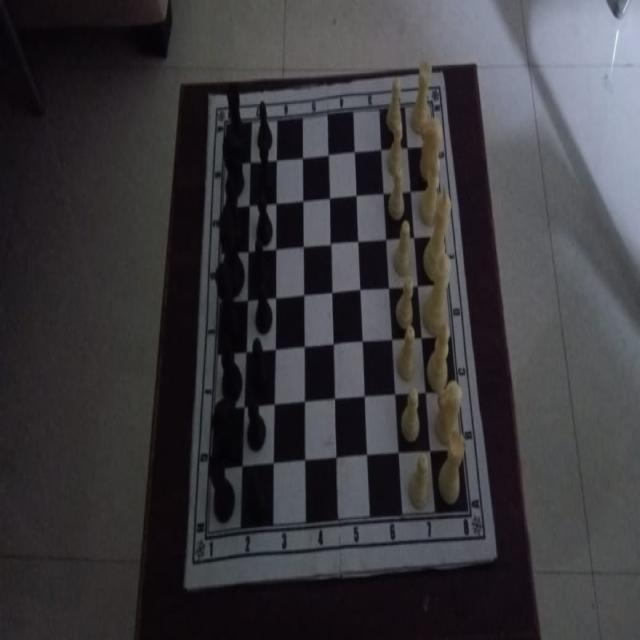corners: (489, 543, 502, 568), (437, 60, 448, 84), (182, 569, 191, 597), (204, 88, 216, 106)
